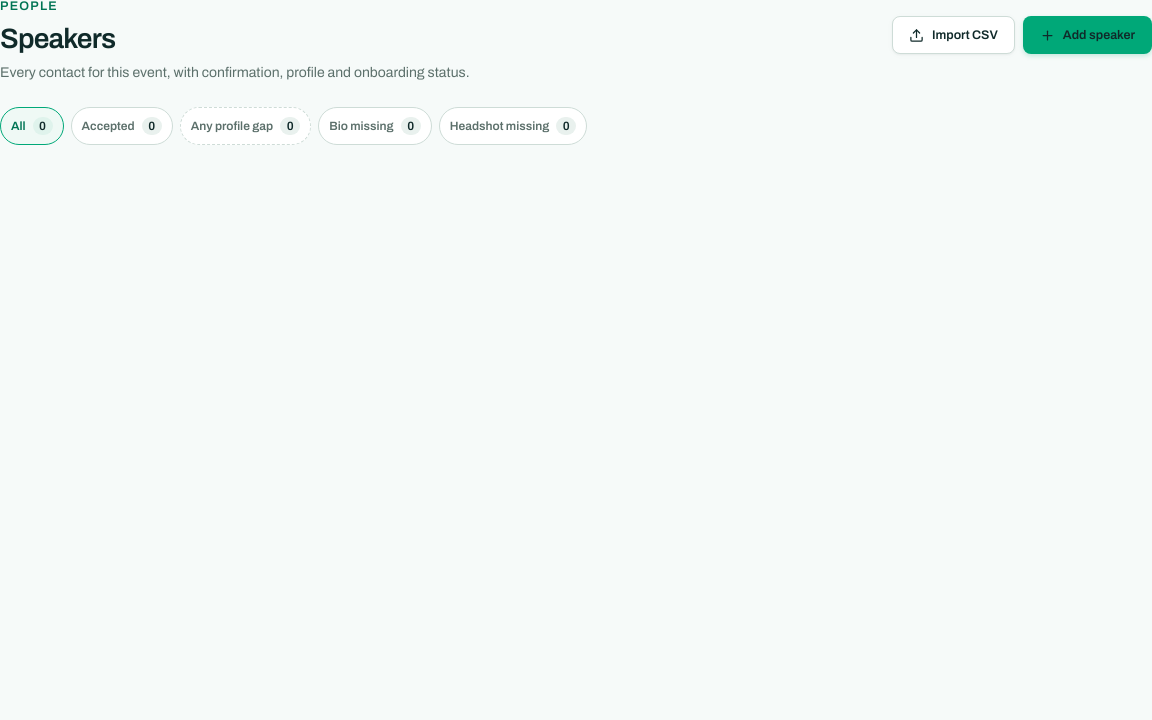
Test: Add speaker › opens with the cursor in the first field rather than on Close
This screenshot has width=1152, height=720.
Click the button "Add speaker" at (1087, 35), box [1023,16,1151,54]
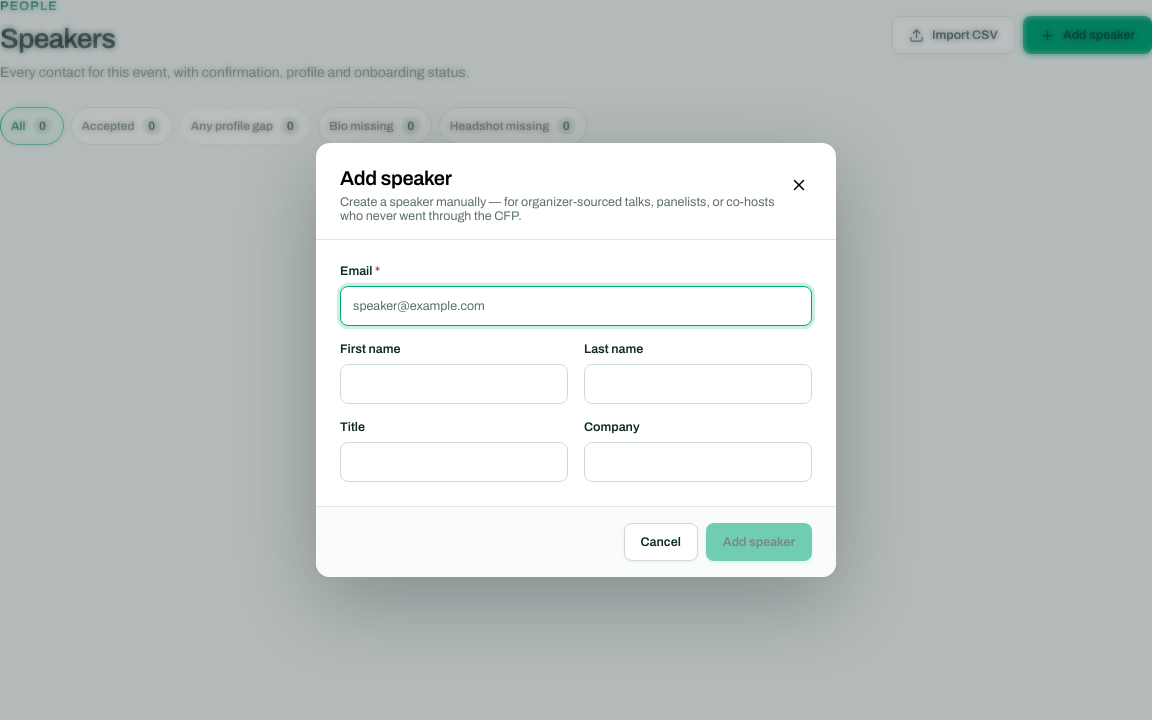
Result: the field labelled "Email *" is shown at [340,286,812,326]
